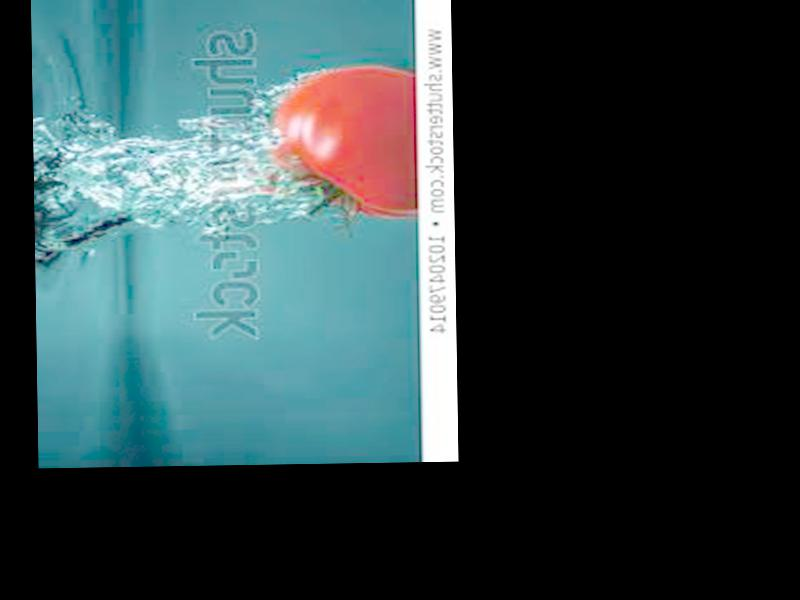Tomato: (272, 66, 418, 221)
